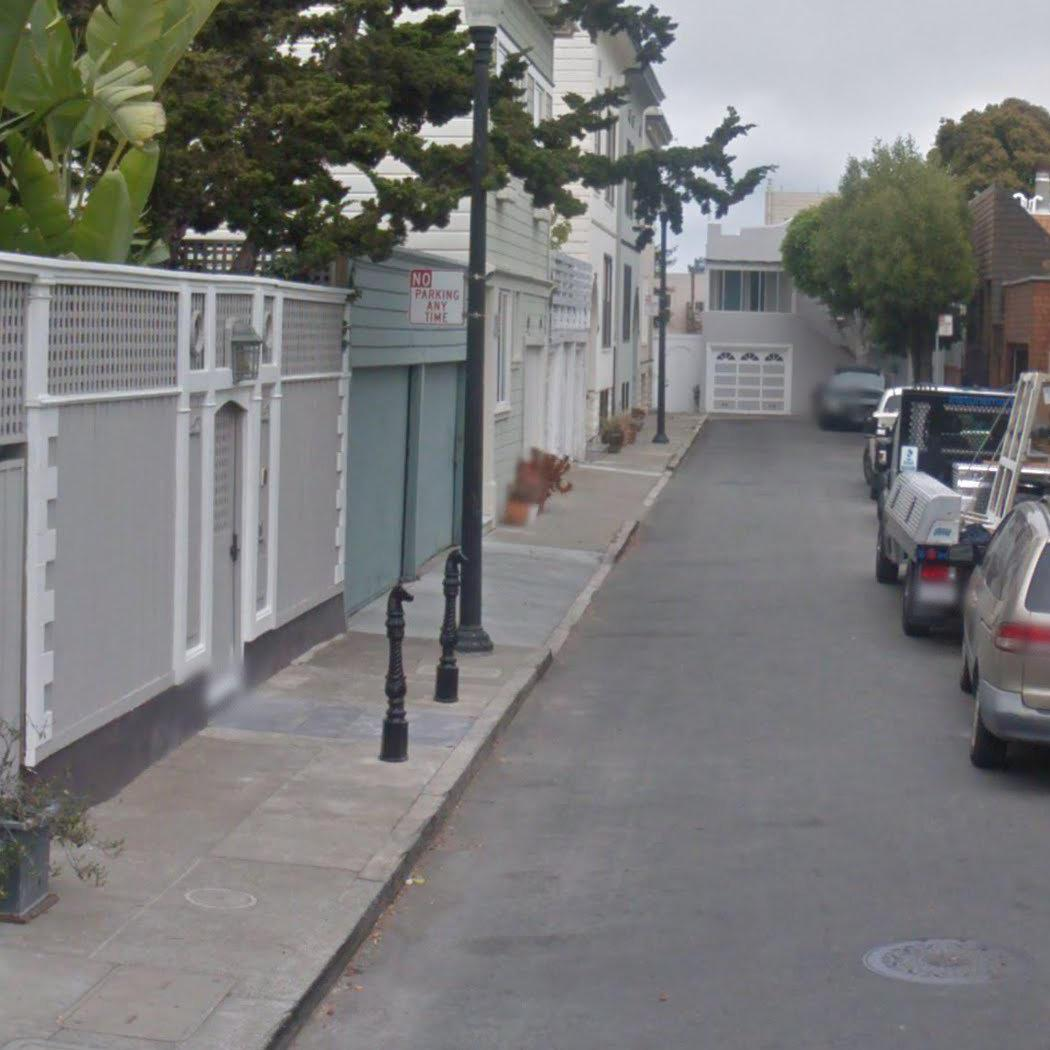No Parking Anytime: (408, 266, 467, 330)
